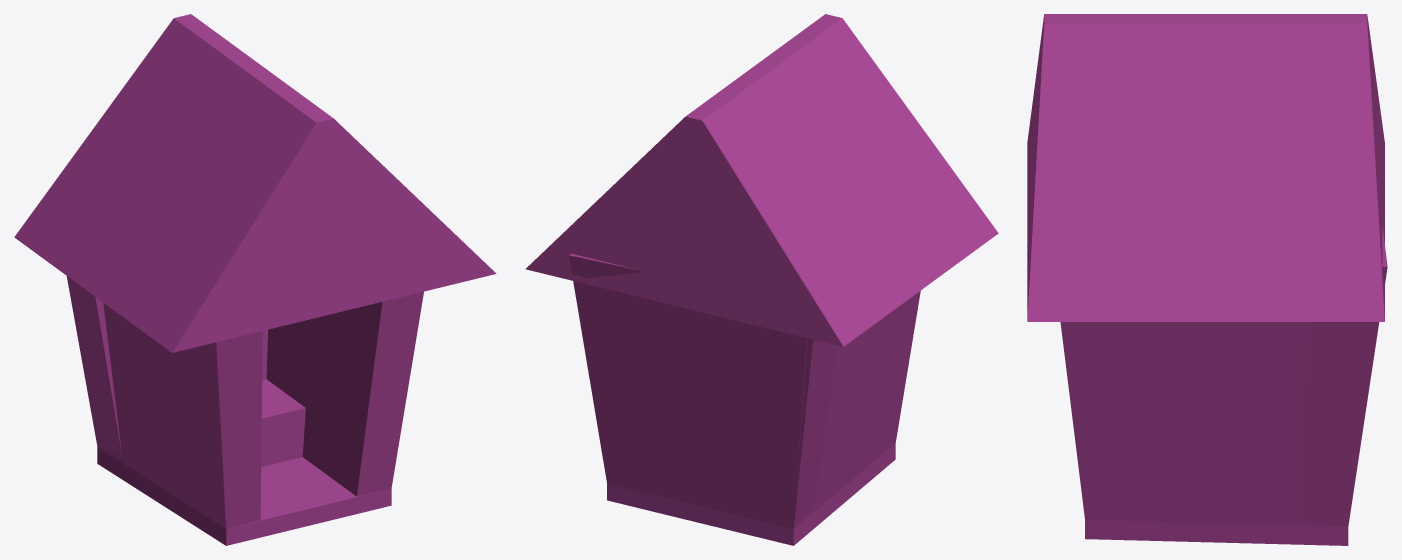
File: SM_Bld_Outhouse_01_Collision.fbx
3 renders of one model, left to right at view 1: azimuth 30°, elevation 25°; view 2: azimuth 150°, elevation 25°; view 3: azimuth 270°, elevation 25°, orthographic. The views are drawn at different scales.
Parts seen in each view (by area): view 1: SM_Bld_Outhouse_01_Collision; view 2: SM_Bld_Outhouse_01_Collision; view 3: SM_Bld_Outhouse_01_Collision.
Part boxes in pixels (x1,y1,x2,y2): SM_Bld_Outhouse_01_Collision: (14, 14, 496, 545); SM_Bld_Outhouse_01_Collision: (525, 14, 998, 545); SM_Bld_Outhouse_01_Collision: (1027, 14, 1387, 545).
Bounding box in the file's own units: 292 × 360 × 248.
